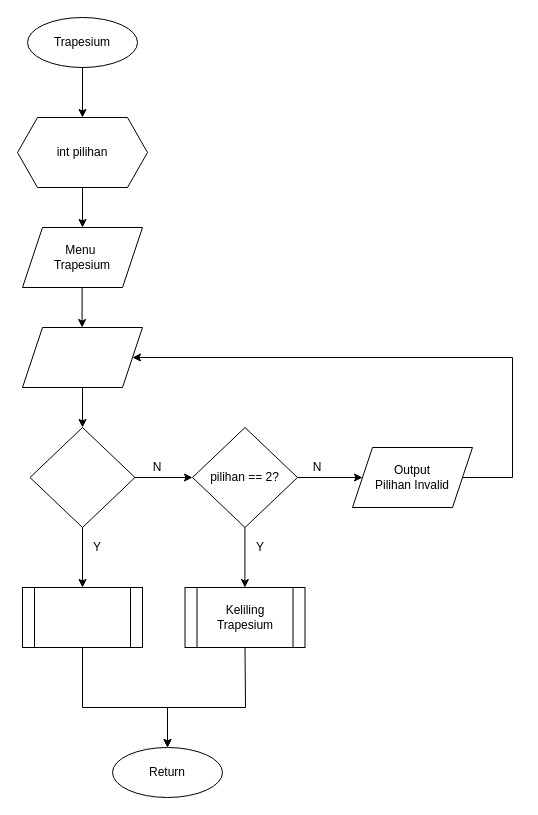
Image size: 538x815. Some labels were removed from this diagram. Each missing label, with the centre of its shape:
"Input pilihan" goes at [82,357].
"Luas Trapesium" goes at [82,617].
"pilihan == 1?" goes at [82,477].
